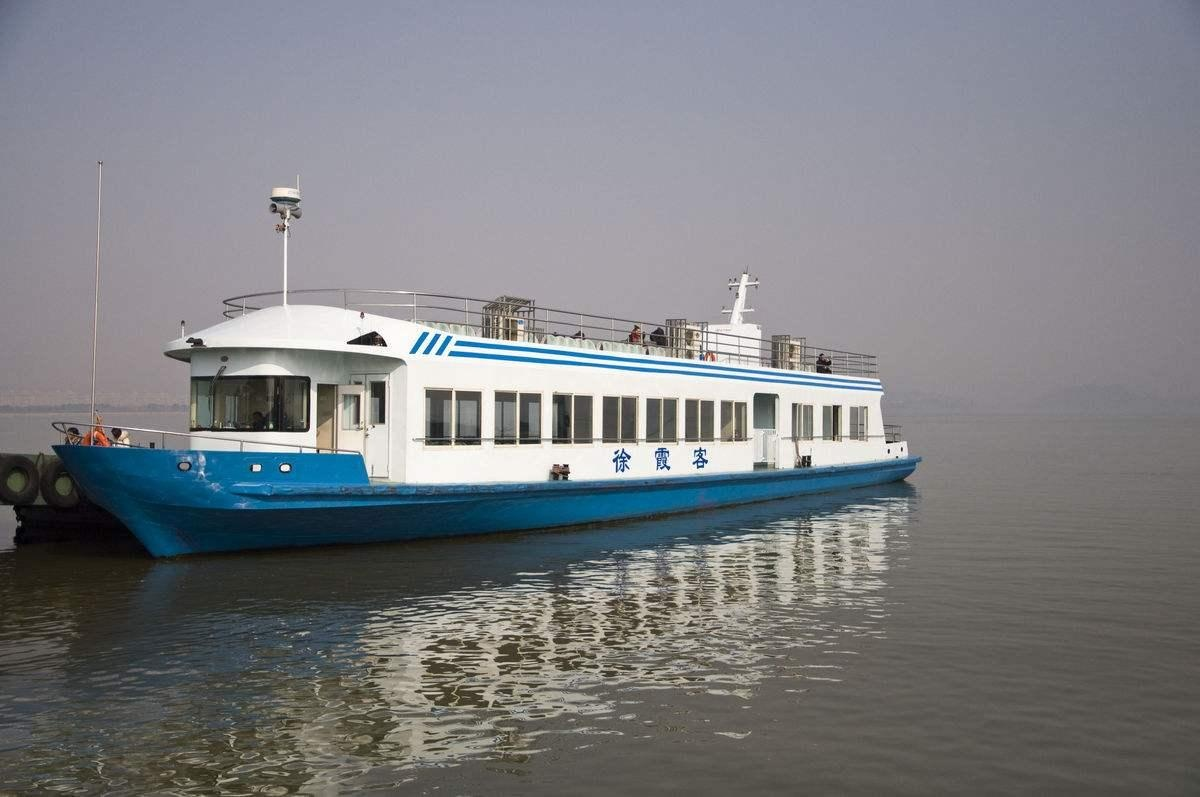otherboat: (50, 256, 914, 579)
